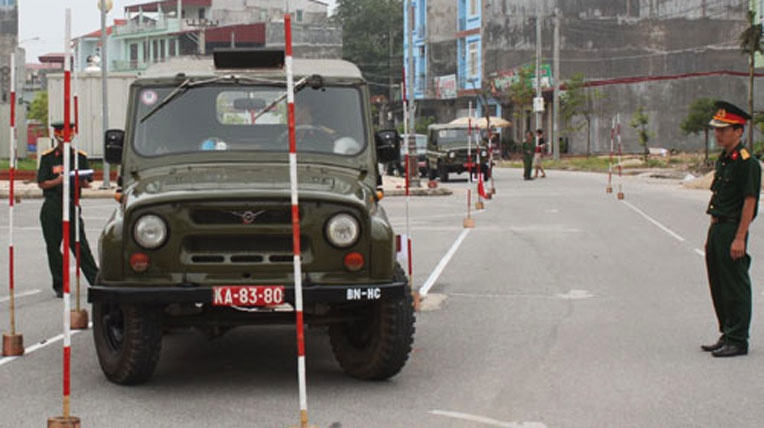plate: (209, 284, 285, 308)
